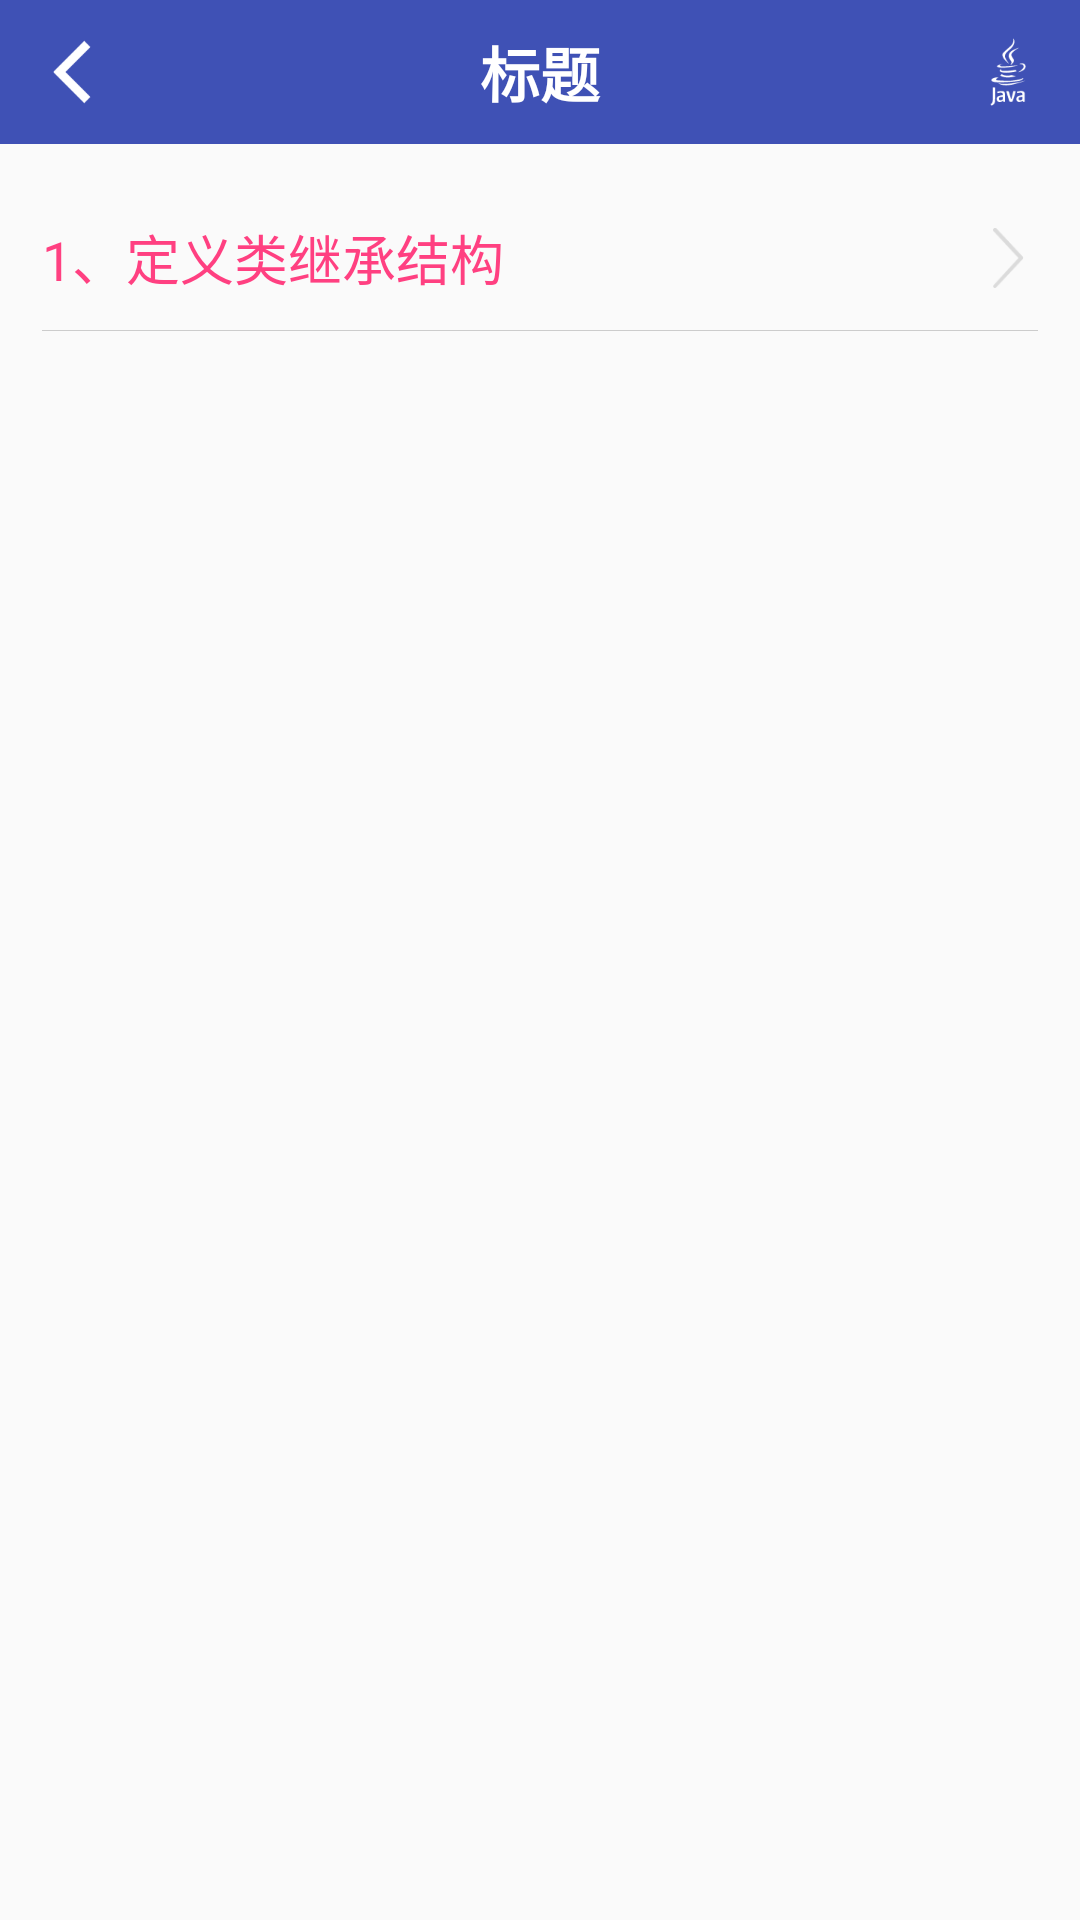

Where to tap for icons on this 1080px x 1920px app screen, as [x,y]:
next: [1008,258]
title back: [71,72]
